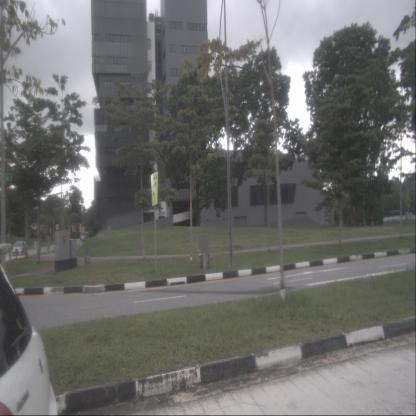vehicle-car: (12, 241, 26, 255)
